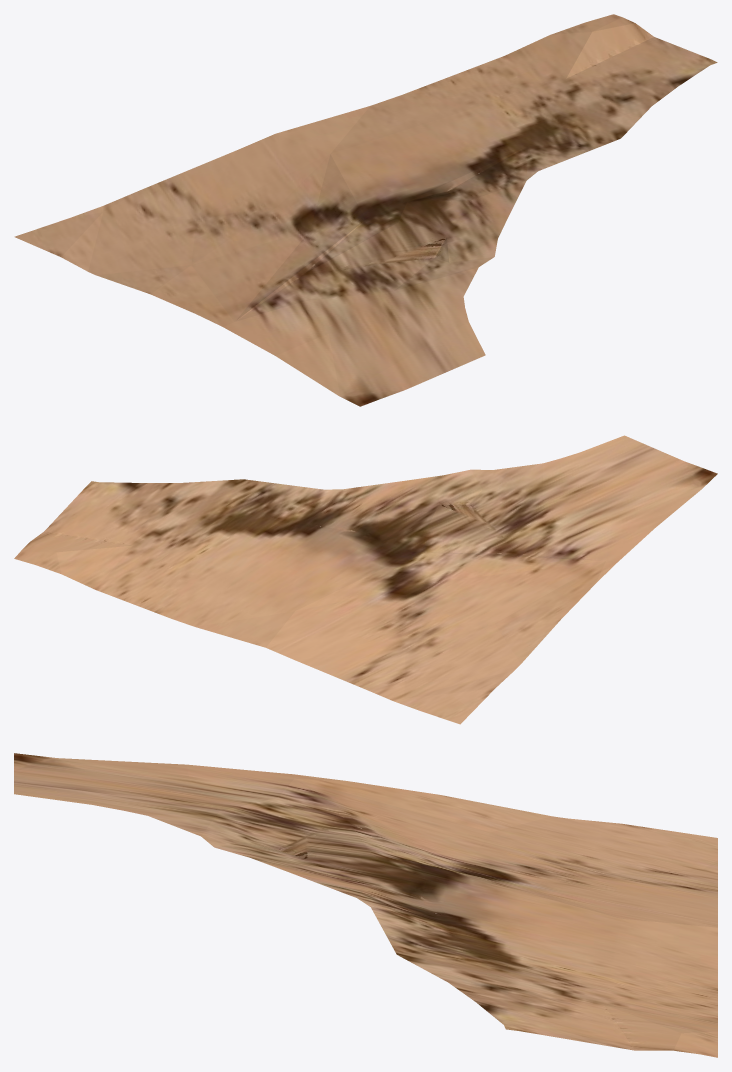
3 views of the same model, one above another, from view 1: azimuth 30°, elevation 25°; view 2: azimuth 150°, elevation 25°; view 3: azimuth 270°, elevation 25° (orthographic). The views are drawn at different scales.
Size of the model in its own units: 2.09 by 0.3474 by 2.09.
Materials: 2 (2 with a texture image).
